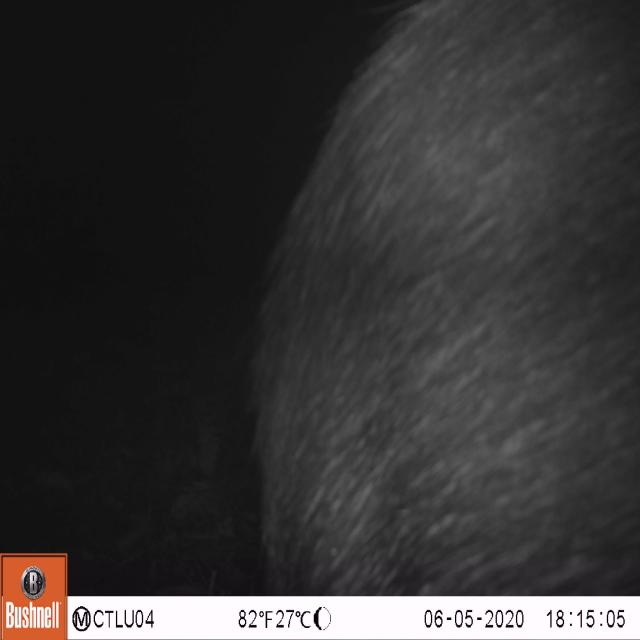White-lipped Peccary: (239, 0, 639, 597)
